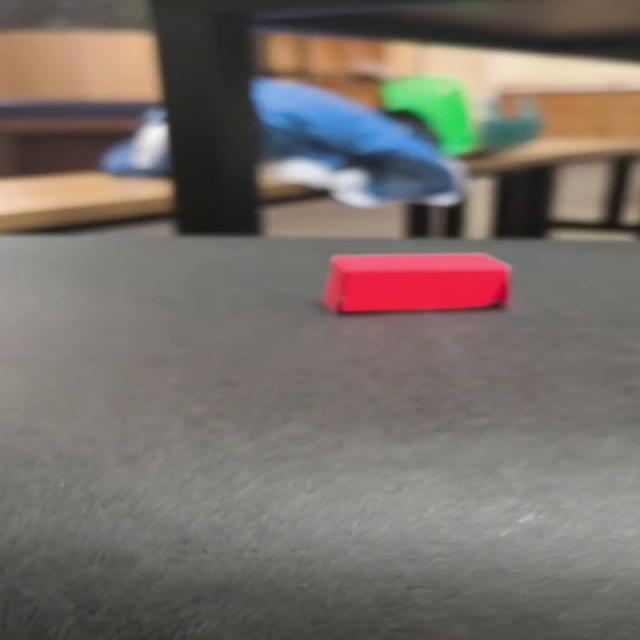red block: (321, 251, 511, 314)
